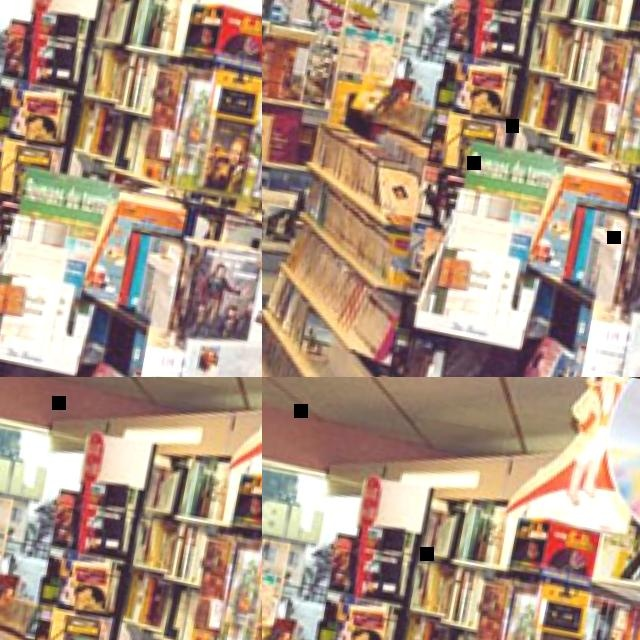Safety Cone: (267, 236, 303, 277), (498, 287, 531, 330), (262, 251, 284, 288), (571, 295, 589, 323)
